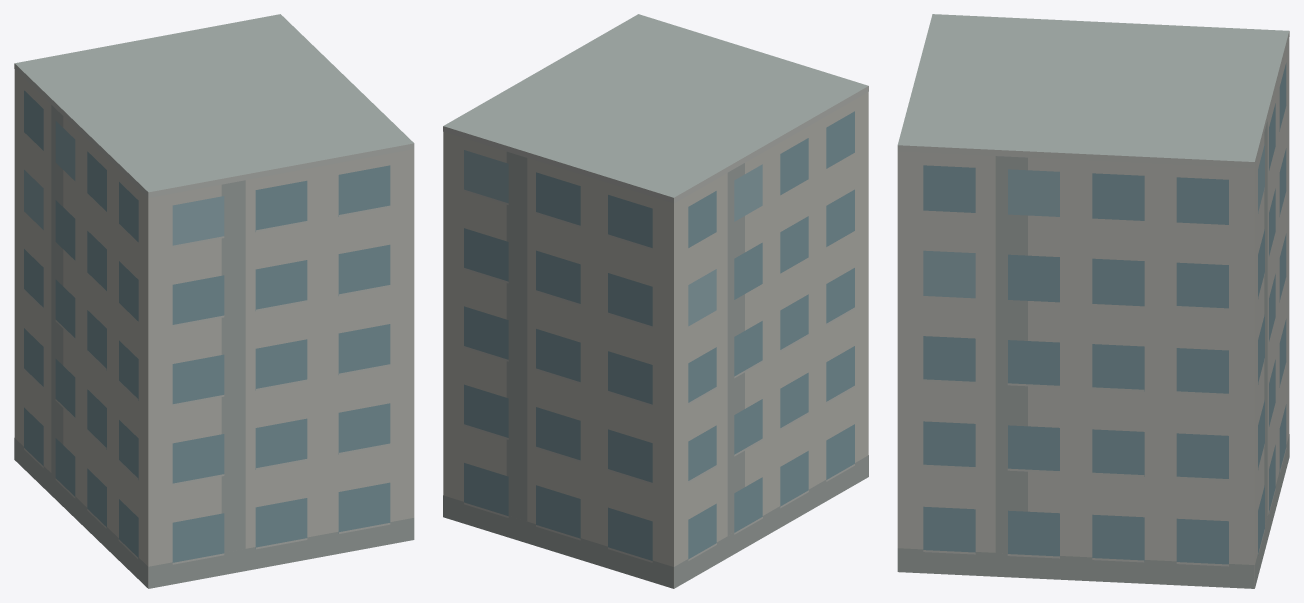
The model's file is survey-upis-32566114.glb.
3 views of the same model, side by side, from view 1: azimuth 30°, elevation 25°; view 2: azimuth 150°, elevation 25°; view 3: azimuth 270°, elevation 25° (orthographic). The views are drawn at different scales.
Visible parts, largest first — view 1: survey-upis-32566114.tmp; view 2: survey-upis-32566114.tmp; view 3: survey-upis-32566114.tmp.
Boxes of the visible parts, x1,y1,x2,y2 form: survey-upis-32566114.tmp: (14, 14, 414, 588); survey-upis-32566114.tmp: (443, 14, 868, 588); survey-upis-32566114.tmp: (897, 14, 1289, 588).
Bounding box in the file's own units: 12.41 × 16.67 × 13.88.
